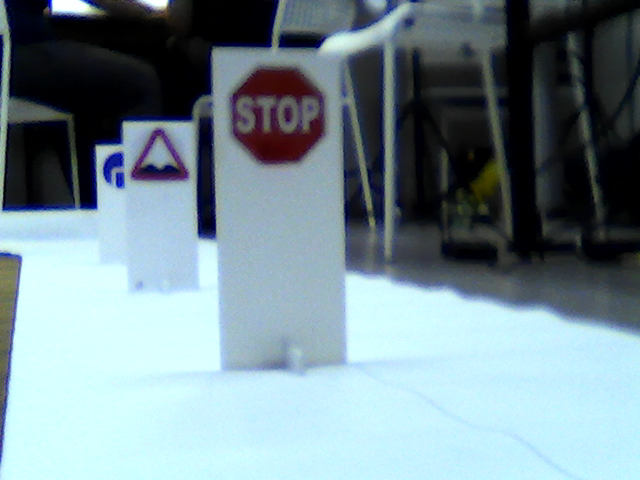Nerov: (131, 127, 189, 178)
Stop: (231, 63, 327, 168)
